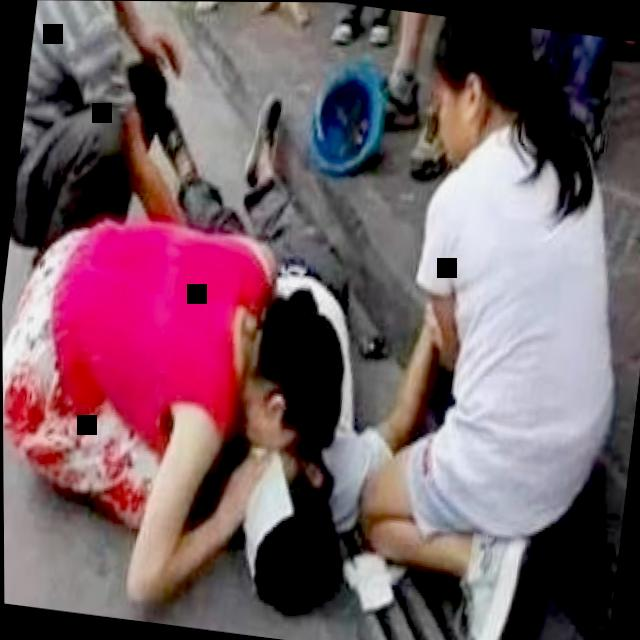Fall-Detected: (167, 52, 422, 594)
